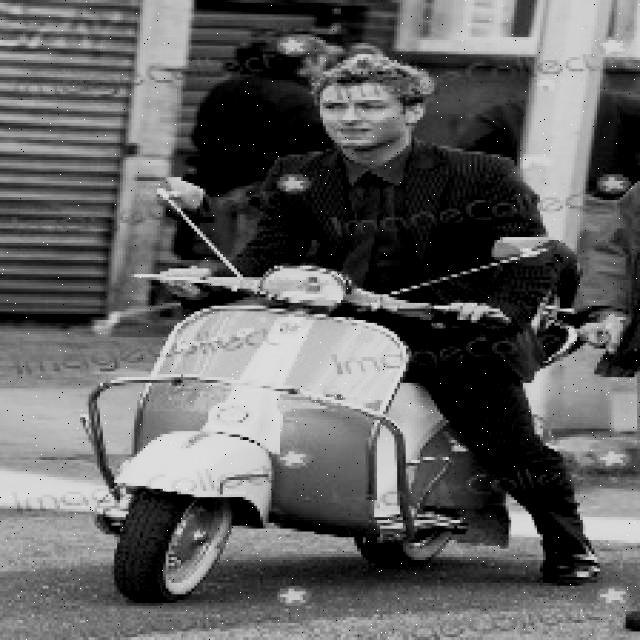Bike: (105, 267, 511, 601)
